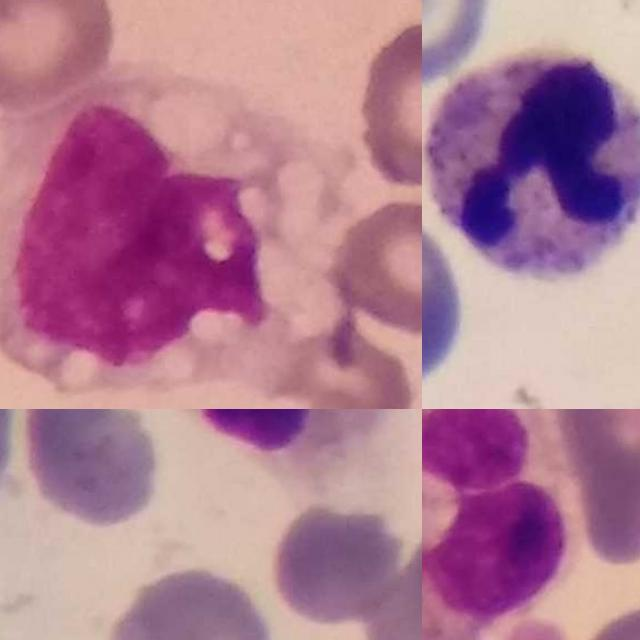Eosinophil: (422, 409, 586, 640)
Monocyte: (0, 101, 357, 400)
Neutrophil: (422, 48, 640, 277)
